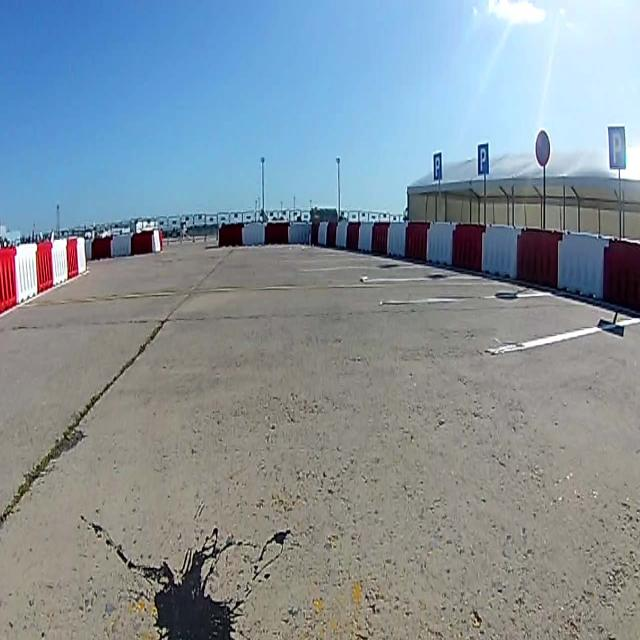park: (606, 124, 626, 169), (476, 143, 489, 176), (432, 152, 442, 180)
parkyasak: (536, 130, 550, 166)
